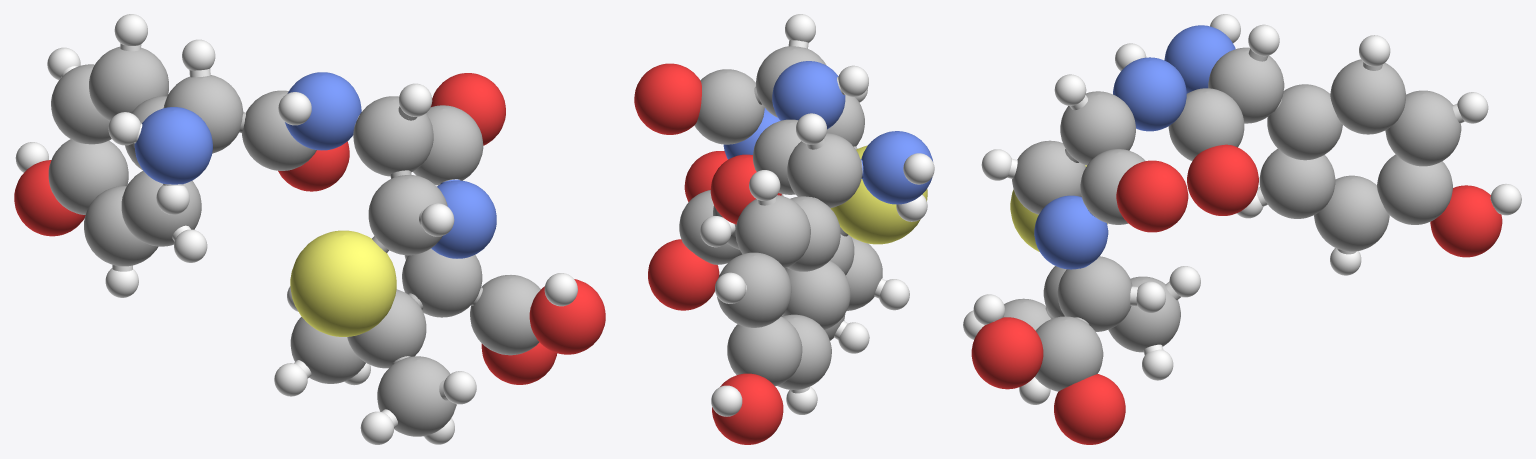
File: amoxicilina.glb
The picture shows the model from 3 angles, left to right: view 1: azimuth 30°, elevation 25°; view 2: azimuth 150°, elevation 25°; view 3: azimuth 270°, elevation 25°; orthographic projection. The views are drawn at different scales.
Parts seen in each view (by area): view 1: Sulfur_ball, Nitrogen_ball_4, Carbon_ball, Carbon_ball_10, Carbon_ball_4, Carbon_ball_14, Carbon_ball_22, Carbon_ball_26, Carbon_ball_6, Nitrogen_ball_2, Oxygen_ball_4, Carbon_ball_2 (+28 smaller); view 2: Carbon_ball_18, Carbon_ball_2, Oxygen_ball, Carbon_ball_26, Carbon_ball_28, Carbon_ball_22, Oxygen_ball_2, Nitrogen_ball_2, Nitrogen_ball_4, Oxygen_ball_8, Carbon_ball_24, Sulfur_ball (+26 smaller); view 3: Carbon_ball_26, Carbon_ball_20, Carbon_ball_28, Nitrogen_ball, Oxygen_ball, Carbon_ball_6, Carbon_ball_30, Oxygen_ball_4, Oxygen_ball_6, Carbon_ball_24, Carbon_ball_22, Nitrogen_ball_2 (+27 smaller).
Part boxes in pixels (x1,y1,x2,y2): Sulfur_ball: (290,230,396,336); Nitrogen_ball_4: (134,107,212,184); Carbon_ball: (353,96,433,176); Carbon_ball_10: (377,356,456,436); Carbon_ball_4: (368,175,447,255); Carbon_ball_14: (470,275,540,355); Carbon_ball_22: (48,139,128,214); Carbon_ball_26: (89,46,168,120); Carbon_ball_6: (402,248,482,317); Nitrogen_ball_2: (285,72,361,150); Oxygen_ball_4: (529,279,605,354); Carbon_ball_2: (413,105,483,185); Carbon_ball_18: (787,133,861,207); Carbon_ball_2: (694,69,764,144); Oxygen_ball: (634,63,701,134); Carbon_ball_26: (735,195,810,268); Carbon_ball_28: (717,252,791,327); Carbon_ball_22: (727,316,802,386); Oxygen_ball_2: (648,239,719,310); Nitrogen_ball_2: (772,61,845,129); Nitrogen_ball_4: (861,131,932,204); Oxygen_ball_8: (712,373,783,444); Carbon_ball_24: (782,260,850,329); Sulfur_ball: (830,145,927,244); Carbon_ball_26: (1330,59,1405,134); Carbon_ball_20: (1267,84,1342,160); Carbon_ball_28: (1385,90,1461,166); Nitrogen_ball: (1034,195,1108,269); Oxygen_ball: (1116,160,1188,232); Carbon_ball_6: (1057,256,1132,331); Carbon_ball_30: (1314,175,1389,251); Oxygen_ball_4: (971,317,1043,389); Oxygen_ball_6: (1187,144,1258,215); Carbon_ball_24: (1259,149,1335,218); Carbon_ball_22: (1377,154,1452,224); Nitrogen_ball_2: (1113,57,1186,131).
Bounding box in the file's own units: 8.27 × 7.29 × 11.32.
